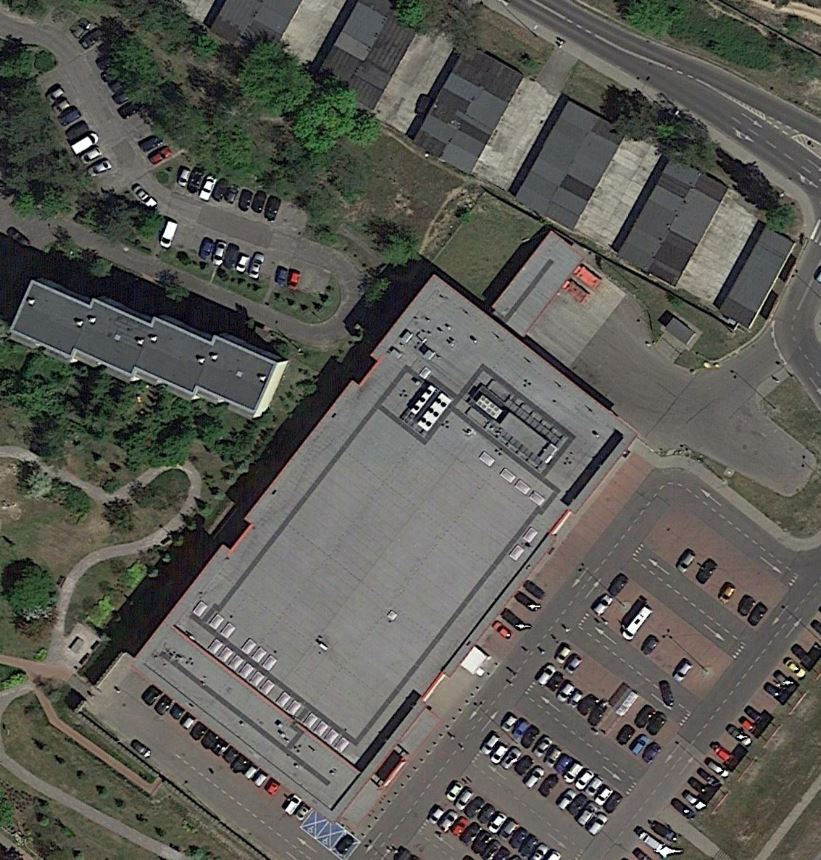block of flats: (6, 263, 281, 431)
garage: (505, 87, 630, 241), (608, 149, 735, 287), (405, 42, 528, 181), (302, 1, 430, 119), (708, 216, 808, 337), (196, 1, 306, 67)
shopping_center: (117, 267, 645, 837)
